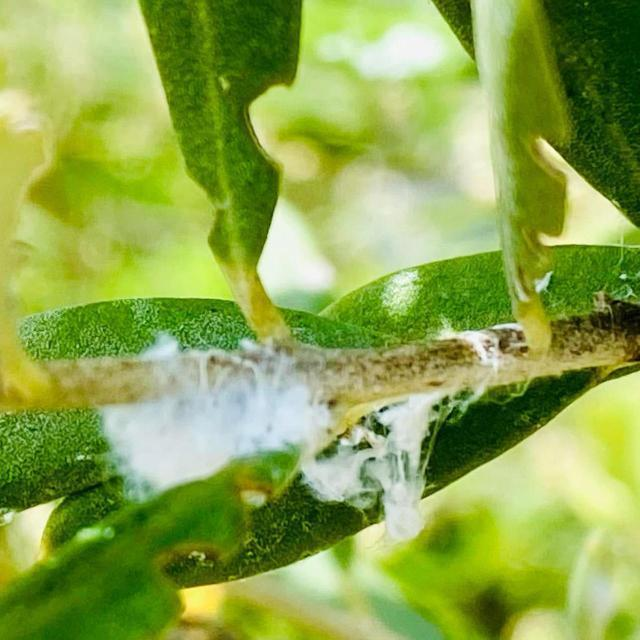Psyllid: (99, 337, 333, 501), (302, 390, 474, 546), (436, 322, 528, 374)
